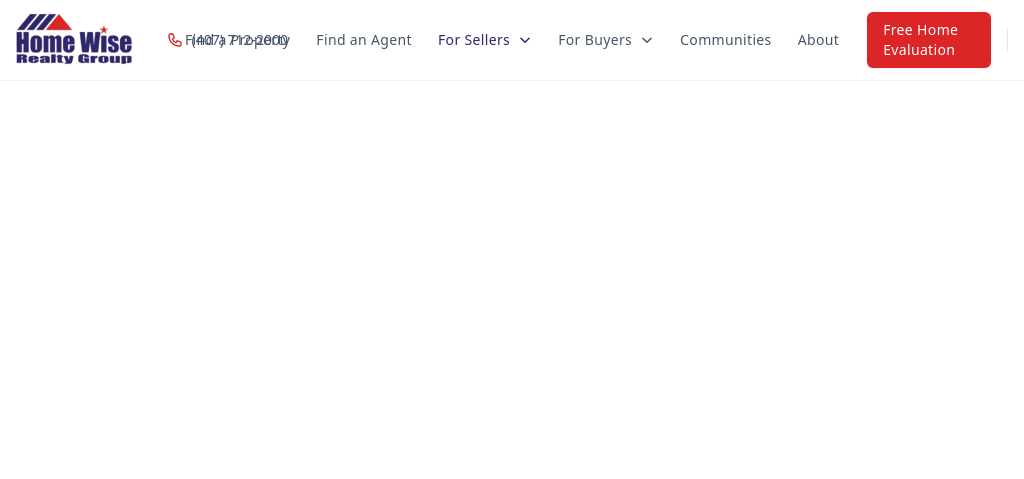
Test: Header › opens a desktop submenu by button and closes it with Escape
Click the button named "Open For Sellers submenu" next to "For Sellers" at [529, 40], box [514,25,544,55]
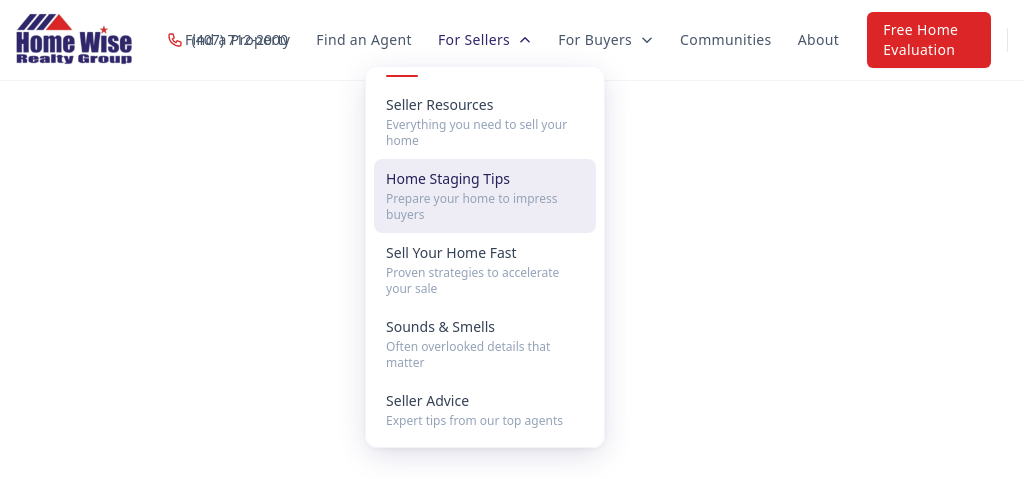
Result: the button named "Open For Sellers submenu" next to "For Sellers" is expanded at [514,25,544,55]
Press Escape in the link "Home Staging Tips Prepare your home to impress buyers", box [374,159,596,233]
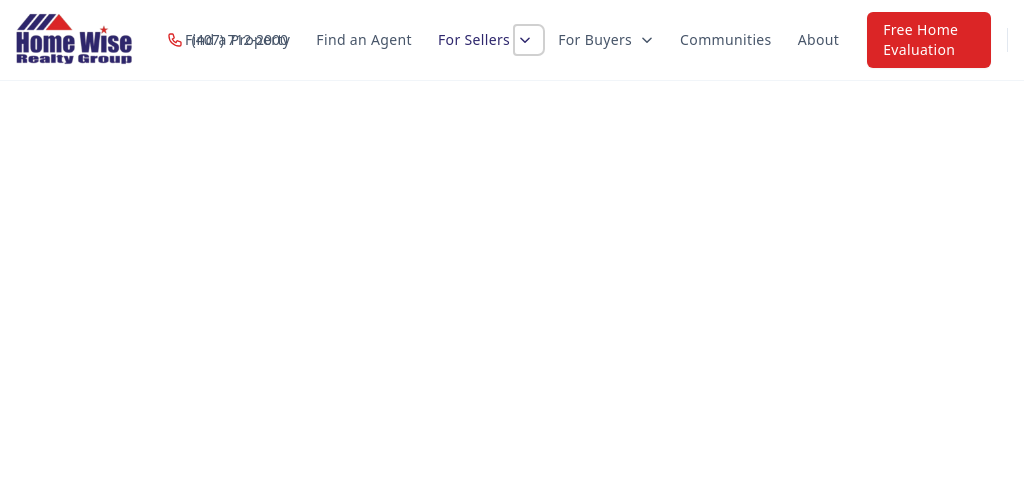
Result: the link "Home Staging Tips" is gone
Result: the button named "Open For Sellers submenu" next to "For Sellers" is collapsed at [514,25,544,55]
